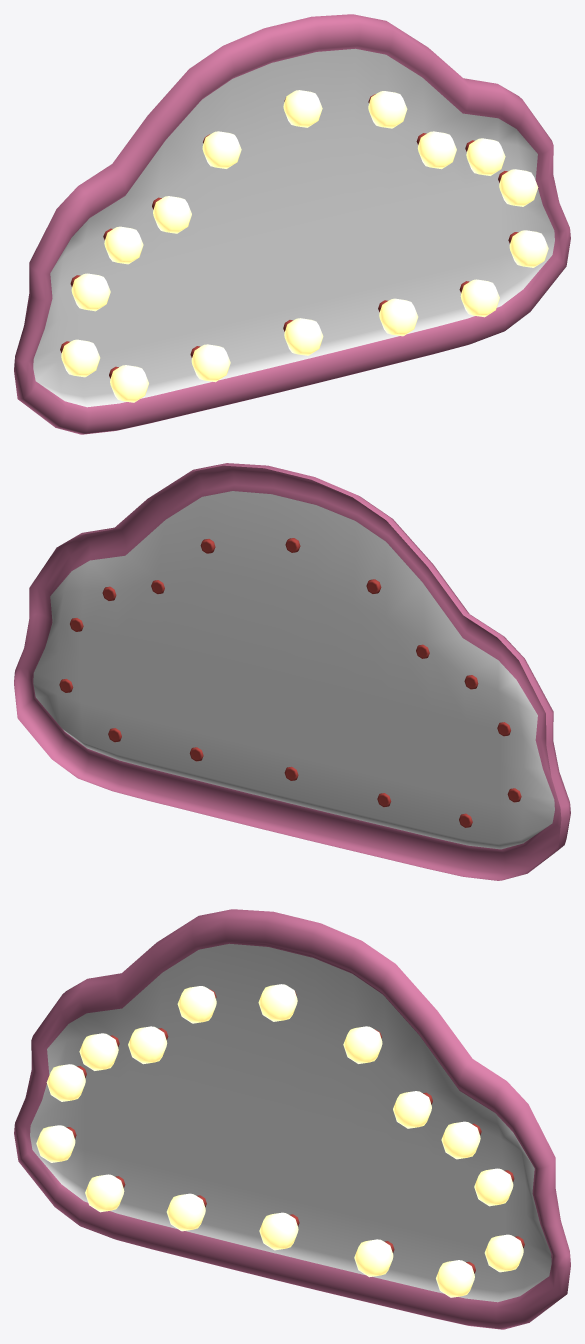
The model's file is Wallslot_03_PastelPop.glb.
The picture shows the model from 3 angles, top to bottom: view 1: azimuth 30°, elevation 25°; view 2: azimuth 150°, elevation 25°; view 3: azimuth 330°, elevation 25°; orthographic projection.
Parts seen in each view (by area): view 1: Wallslot_03_PastelPop; view 2: Wallslot_03_PastelPop; view 3: Wallslot_03_PastelPop.
Part boxes in pixels (<box>): Wallslot_03_PastelPop: <box>14,14,570,434</box>; Wallslot_03_PastelPop: <box>14,463,570,880</box>; Wallslot_03_PastelPop: <box>14,909,570,1329</box>.
Bounding box in the file's own units: 0.4597 × 0.2882 × 0.0379.
2 materials, 1 textured.
